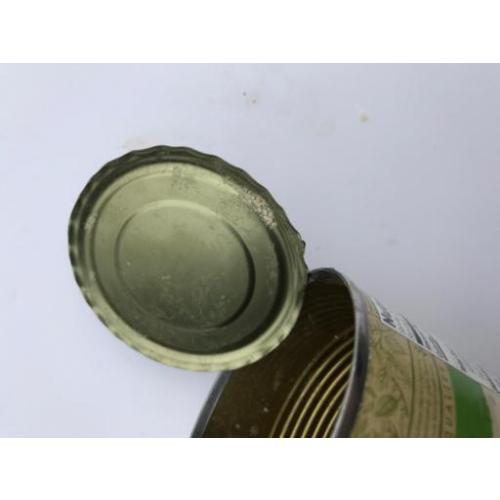metal: (199, 270, 499, 436)
